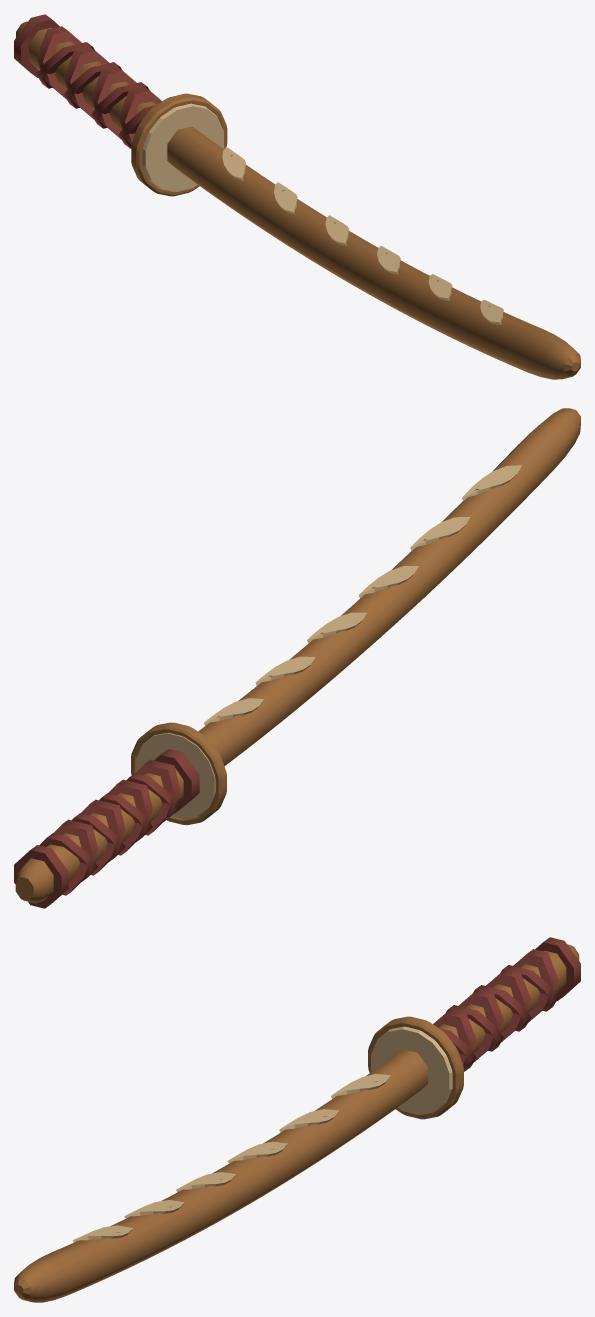
The model's file is w_katana@katana_baguette.glb.
3 renders of one model, top to bottom at view 1: azimuth 30°, elevation 25°; view 2: azimuth 150°, elevation 25°; view 3: azimuth 330°, elevation 25°, orthographic.
Parts seen in each view (by area): view 1: kat_blade_wzA__crust__p9c6a3a, kat_trims_wzN__cord__p7a3a32, kat_guard_wzN__crumb__pcfb183, kat_blade_wzN__crumb__pcfb183, kat_guard_wzN__crust__p9c6a3a, kat_tsuka_wzA__crust__p9c6a3a; view 2: kat_blade_wzA__crust__p9c6a3a, kat_trims_wzN__cord__p7a3a32, kat_blade_wzN__crumb__pcfb183, kat_tsuka_wzA__crust__p9c6a3a, kat_guard_wzN__crumb__pcfb183, kat_guard_wzN__crust__p9c6a3a; view 3: kat_blade_wzA__crust__p9c6a3a, kat_trims_wzN__cord__p7a3a32, kat_blade_wzN__crumb__pcfb183, kat_guard_wzN__crumb__pcfb183, kat_guard_wzN__crust__p9c6a3a, kat_tsuka_wzA__crust__p9c6a3a.
Part boxes in pixels (x1,y1,x2,y2): kat_blade_wzA__crust__p9c6a3a: (167, 126, 580, 379); kat_trims_wzN__cord__p7a3a32: (14, 14, 161, 148); kat_guard_wzN__crumb__pcfb183: (142, 103, 223, 191); kat_blade_wzN__crumb__pcfb183: (222, 147, 503, 324); kat_guard_wzN__crust__p9c6a3a: (131, 93, 227, 196); kat_tsuka_wzA__crust__p9c6a3a: (16, 21, 156, 129); kat_blade_wzA__crust__p9c6a3a: (198, 408, 580, 766); kat_trims_wzN__cord__p7a3a32: (14, 749, 199, 908); kat_blade_wzN__crumb__pcfb183: (204, 465, 521, 725); kat_tsuka_wzA__crust__p9c6a3a: (15, 768, 183, 903); kat_guard_wzN__crumb__pcfb183: (136, 733, 215, 819); kat_guard_wzN__crust__p9c6a3a: (131, 722, 226, 825); kat_blade_wzA__crust__p9c6a3a: (14, 1049, 427, 1302); kat_trims_wzN__cord__p7a3a32: (433, 937, 580, 1071); kat_blade_wzN__crumb__pcfb183: (73, 1074, 390, 1242); kat_guard_wzN__crumb__pcfb183: (371, 1026, 452, 1114); kat_guard_wzN__crust__p9c6a3a: (368, 1016, 463, 1119); kat_tsuka_wzA__crust__p9c6a3a: (438, 944, 579, 1052).
Bounding box in the file's own units: 0.0922 × 0.1237 × 0.9667.
